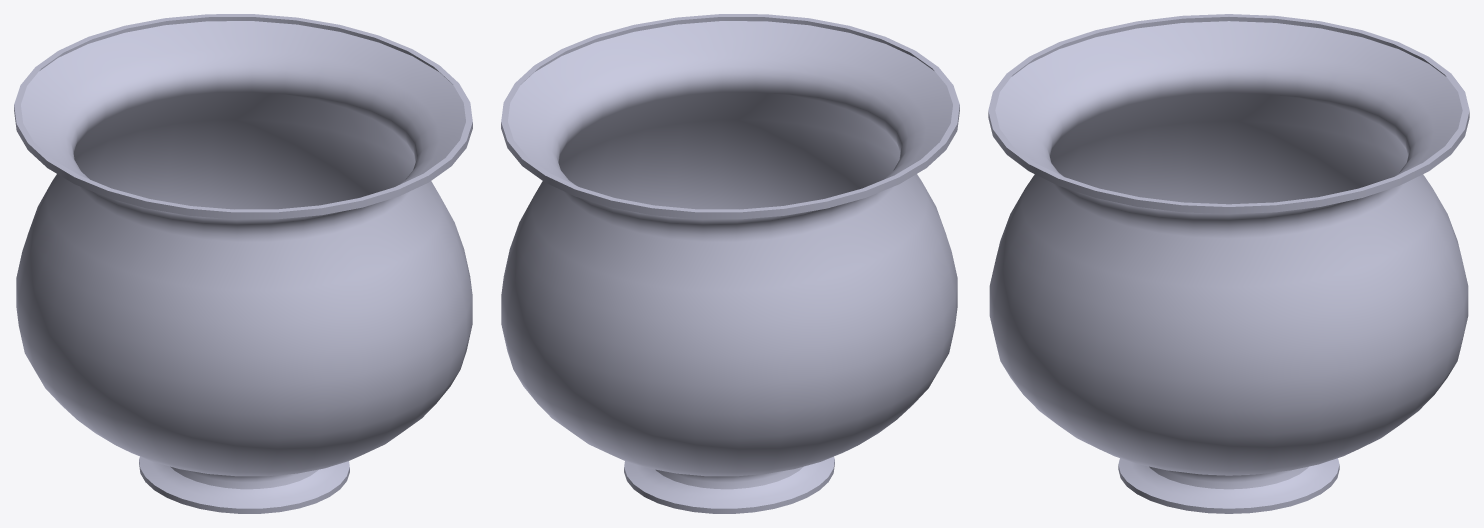
File: huatong.dae
3 views of the same model, side by side, from view 1: azimuth 30°, elevation 25°; view 2: azimuth 150°, elevation 25°; view 3: azimuth 270°, elevation 25° (orthographic).
Visible parts, largest first — view 1: huatong; view 2: huatong; view 3: huatong.
Boxes of the visible parts, x1,y1,x2,y2 form: huatong: (14,14,472,513); huatong: (501,14,959,513); huatong: (988,14,1469,513).
Bounding box in the file's own units: 0.7248 × 0.6276 × 0.7636.
